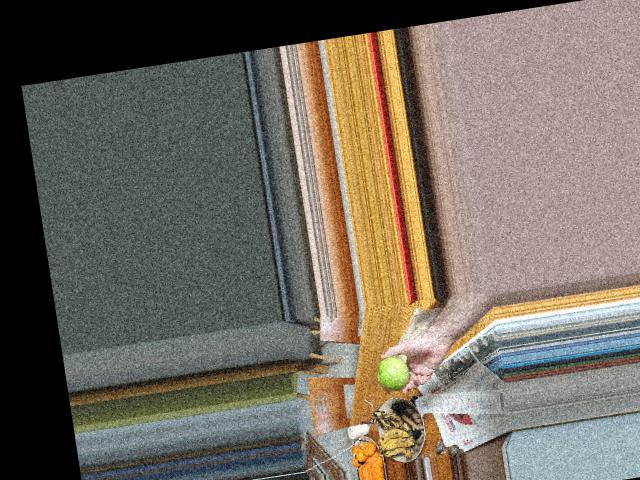apple: (369, 350, 415, 391)
